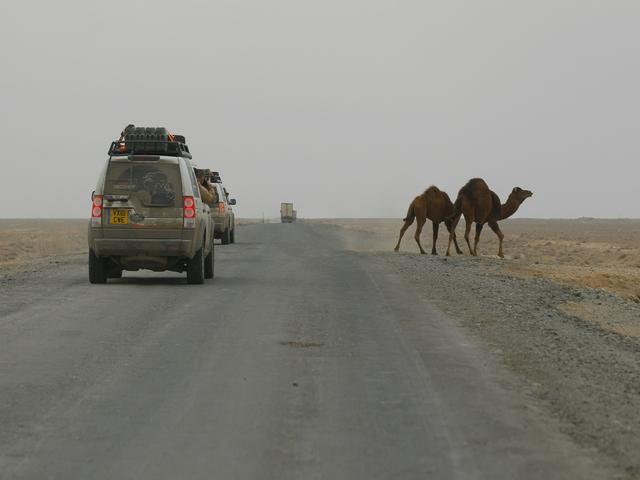camel: (389, 172, 544, 257)
